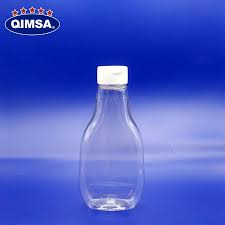Botella: (79, 66, 143, 210)
